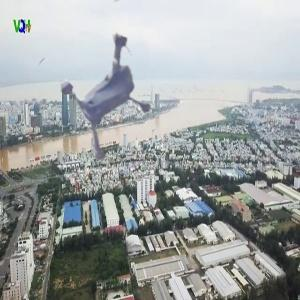drone: (35, 8, 176, 149)
